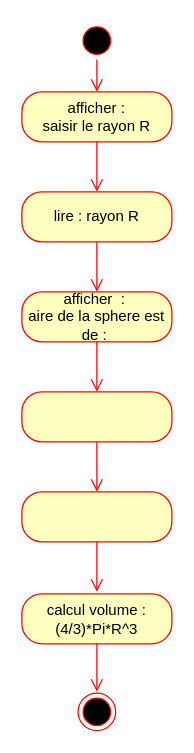
The diagram is 194 pixels wide and 753 high, and some of its shapes have lost their labels. The shapes that lost their labels are listed below. From the top down, each one's centre as x and y in pixels, then its label:
pixel 96 416: calcul aire : 4*Pi *R^2
pixel 96 516: afficher : volume de la sphere est de :
